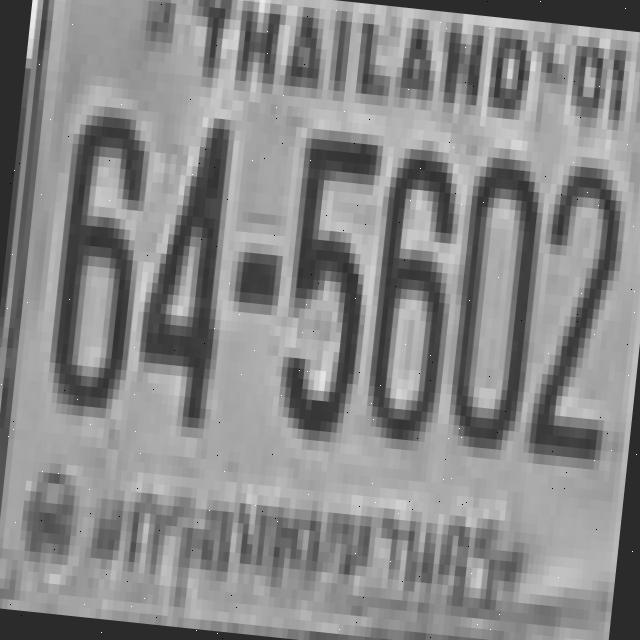0: (442, 145, 543, 441)
2: (523, 153, 625, 460)
4: (130, 102, 234, 418)
5: (270, 127, 378, 433)
6: (40, 103, 148, 409), (358, 141, 459, 437)
Bangkok: (112, 461, 504, 624)
